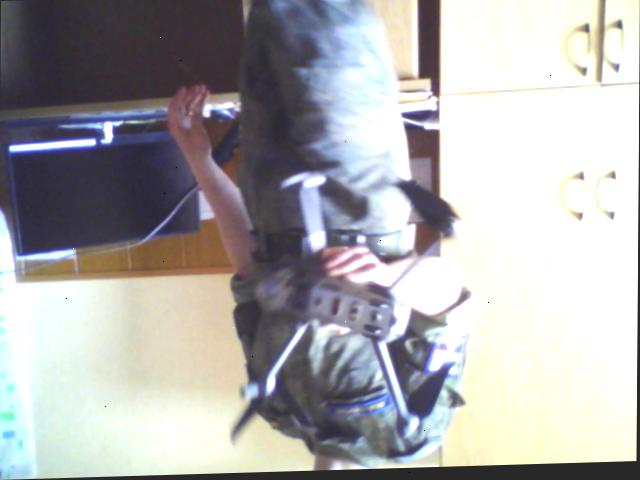drone: (222, 155, 477, 439)
